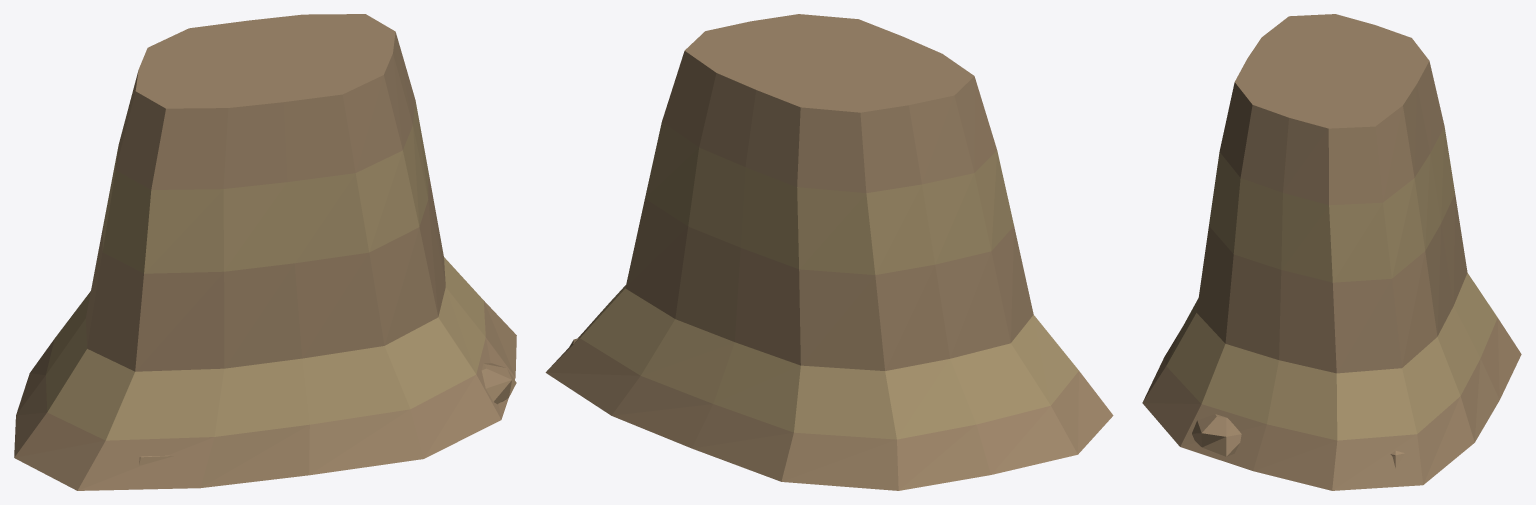
File: Environment_Landmark_Mesa_001.glb
The picture shows the model from 3 angles, left to right: view 1: azimuth 30°, elevation 25°; view 2: azimuth 150°, elevation 25°; view 3: azimuth 270°, elevation 25°; orthographic projection. The views are drawn at different scales.
Parts seen in each view (by area): view 1: Environment_Landmark_Mesa_001; view 2: Environment_Landmark_Mesa_001; view 3: Environment_Landmark_Mesa_001.
Boxes of the visible parts, <box> form: Environment_Landmark_Mesa_001: <box>14,14,516,490</box>; Environment_Landmark_Mesa_001: <box>545,14,1113,490</box>; Environment_Landmark_Mesa_001: <box>1142,14,1521,490</box>.
Size of the model in its own units: 25.11 by 16 by 17.9.
